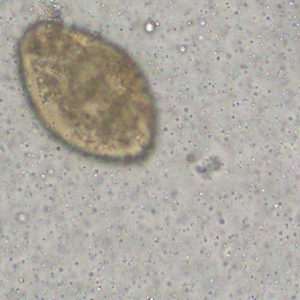Fasciola_hepatica_egg: (15, 19, 159, 166)
